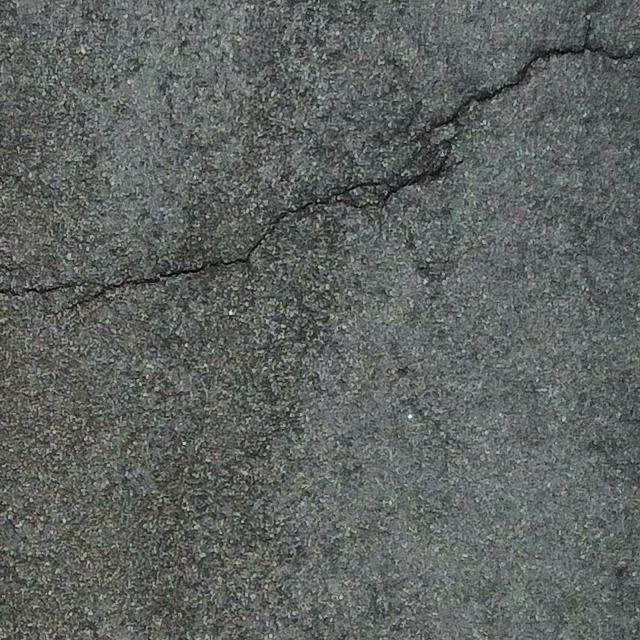TransverseCrack: (1, 41, 640, 310)
